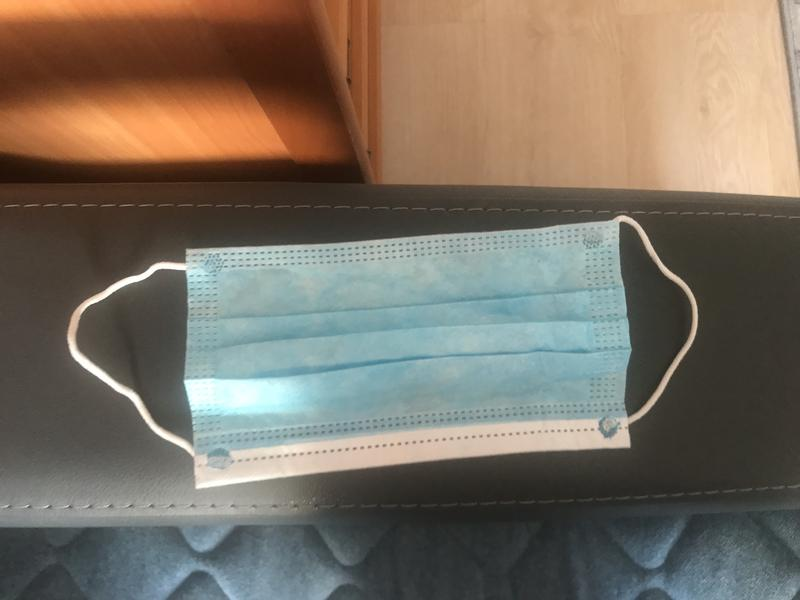medical_mask: (67, 211, 701, 493)
